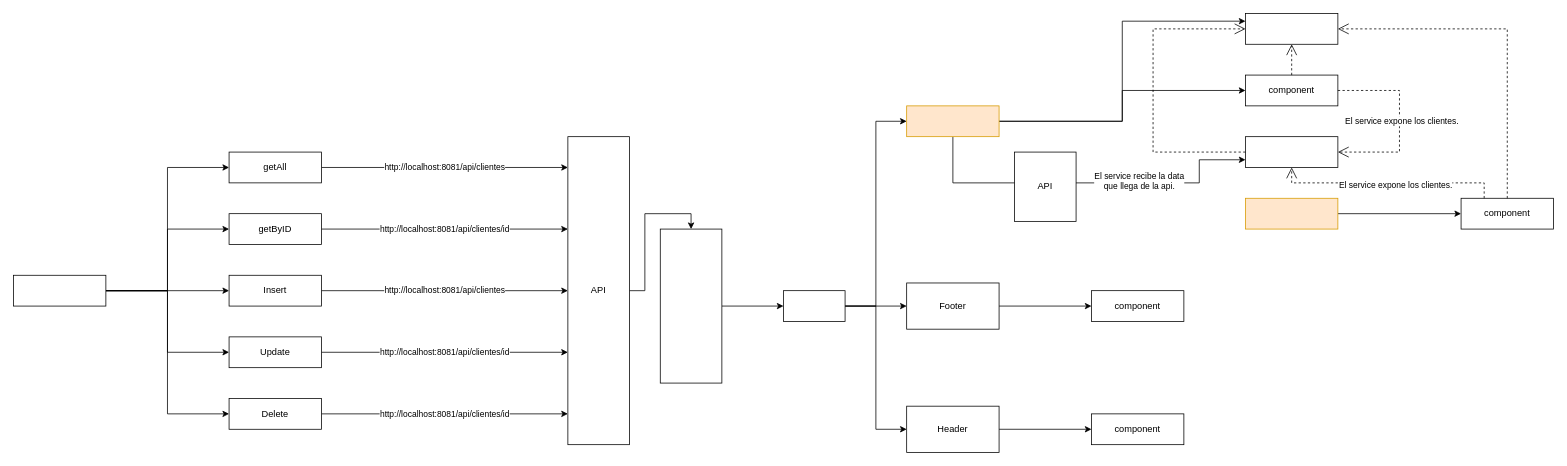
Some shapes in this 1567 by 466 pixel diagram are drawn without their labels. The shapes that lost their labels are listed below. From the top down, each one's centre as x and y in pixels, then its label:
the point at 1291,28: model
the point at 952,121: Clientes
the point at 1291,151: service
the point at 1291,213: form
the point at 59,290: Spring
the point at 691,305: Angular
the point at 814,305: app
